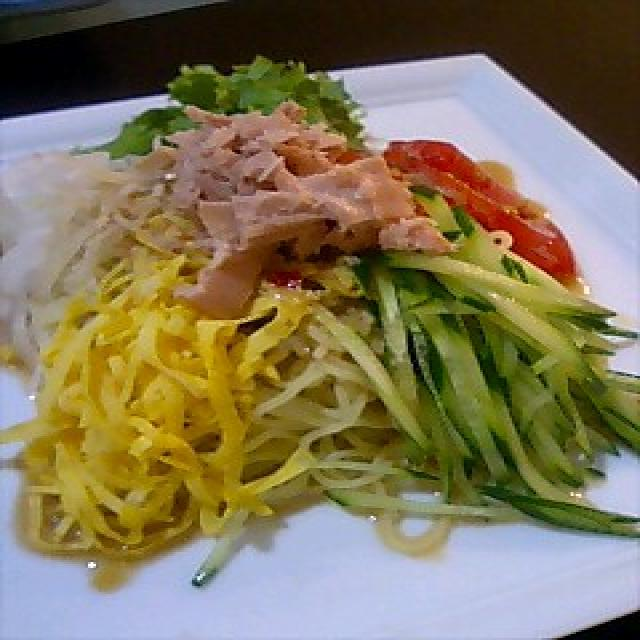面条主食: (0, 72, 640, 600)
